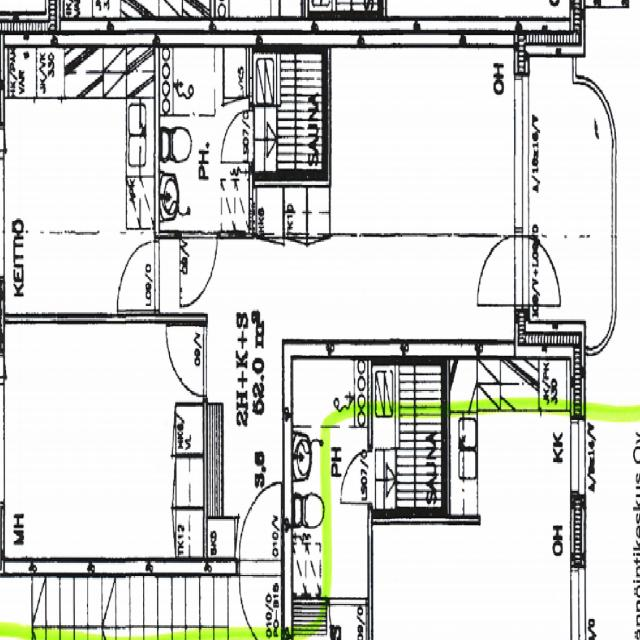door: (239, 479, 281, 577), (514, 237, 565, 306), (478, 237, 529, 306), (239, 559, 281, 640), (166, 326, 207, 397), (180, 231, 217, 308), (118, 242, 159, 311), (222, 111, 252, 163)
